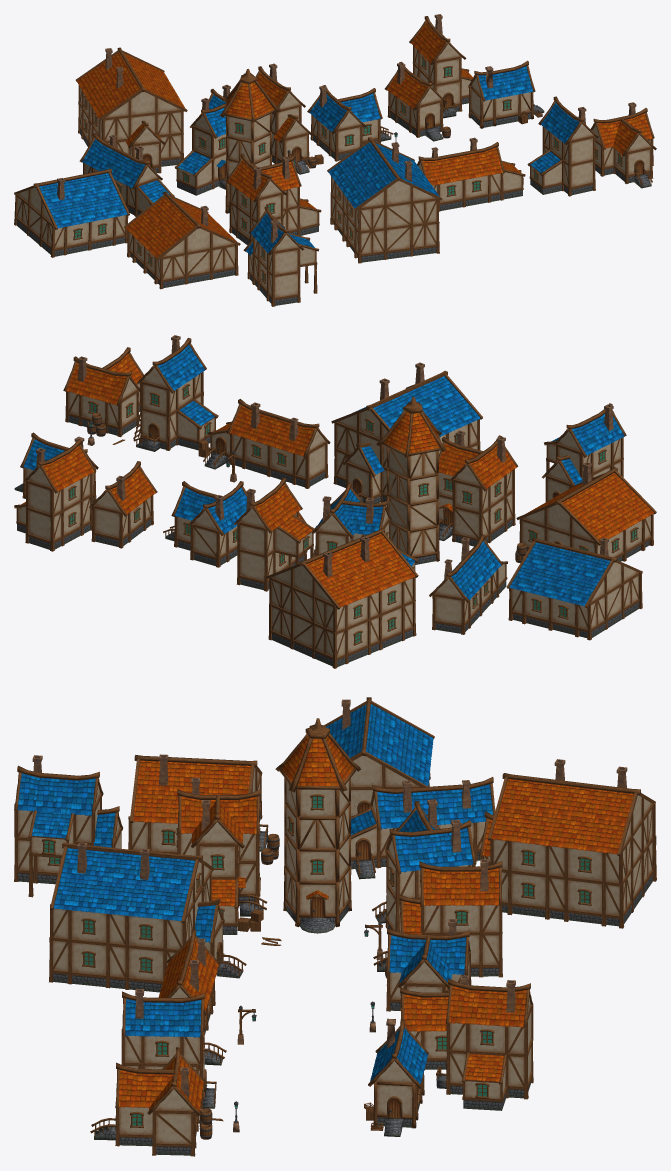
File: house.glb
3 views of the same model, one above another, from view 1: azimuth 30°, elevation 25°; view 2: azimuth 150°, elevation 25°; view 3: azimuth 270°, elevation 25° (orthographic). The views are drawn at different scales.
Visible parts, largest first — view 1: BH8, RH8, RH7, BH6, RH6, RH3, BH1, BH7, Tower, BH2, RH1, BH4 (+5 smaller); view 2: RH8, BH6, BH8, RH7, Tower, RH6, RH3, BH1, RH5, RH4, RH1, BH5 (+5 smaller); view 3: RH8, BH8, Tower, RH5, BH7, RH6, RH4, RH1, RH7, BH6, BH5, BH1 (+5 smaller).
Boxes of the visible parts, box(x1,y1,x2,y2) form: BH8: box(327, 137, 442, 263); RH8: box(75, 47, 187, 173); RH7: box(124, 191, 240, 289); BH6: box(14, 168, 129, 257); RH6: box(225, 153, 321, 245); RH3: box(417, 137, 525, 211); BH1: box(527, 96, 598, 196); BH7: box(243, 206, 319, 306); Tower: box(220, 69, 280, 213); BH2: box(307, 85, 393, 161); RH1: box(590, 102, 656, 188); BH4: box(174, 84, 230, 195); RH8: box(266, 528, 418, 668); BH6: box(506, 537, 642, 640); BH8: box(331, 362, 482, 503); RH7: box(516, 462, 656, 561); Tower: box(376, 396, 445, 564); RH6: box(439, 430, 518, 546); RH3: box(203, 399, 330, 488); BH1: box(133, 335, 218, 451); RH5: box(14, 439, 96, 551); RH4: box(234, 477, 314, 591); RH1: box(63, 347, 143, 437); BH5: box(429, 534, 507, 634); RH8: box(477, 759, 656, 928); BH8: box(49, 842, 246, 992); Tower: box(275, 718, 360, 933); RH5: box(436, 978, 533, 1110); BH7: box(14, 755, 122, 897); RH6: box(176, 777, 267, 934); RH4: box(373, 859, 502, 977); RH1: box(90, 1047, 205, 1156); RH7: box(128, 754, 268, 853); BH6: box(324, 697, 434, 816); BH5: box(351, 777, 495, 879); BH1: box(121, 988, 216, 1109).
Size of the model in its own units: 45.77 by 11.32 by 32.83.
3 materials, 2 textured.
